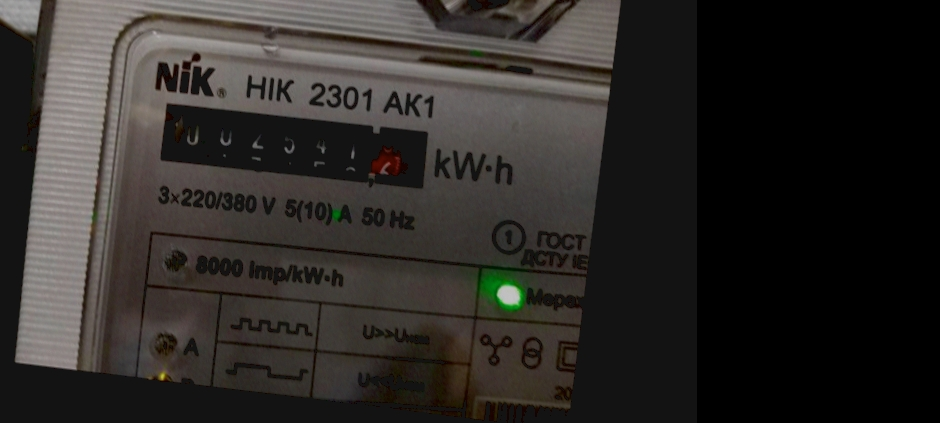0: (215, 114, 238, 149), (184, 117, 204, 147)
1: (342, 127, 362, 162)
2: (246, 117, 271, 154)
4: (312, 124, 332, 157)
5: (279, 123, 299, 157)
6: (375, 155, 394, 178)
screen: (143, 83, 452, 209)
